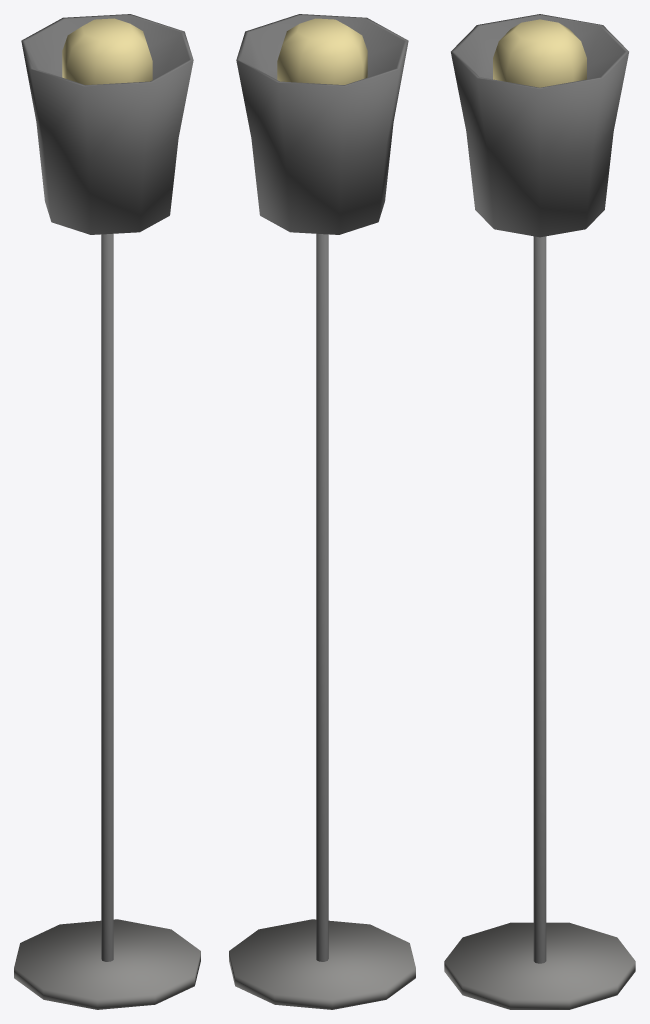
The model's file is Light_Floor1.glb.
3 renders of one model, left to right at view 1: azimuth 30°, elevation 25°; view 2: azimuth 150°, elevation 25°; view 3: azimuth 270°, elevation 25°, orthographic.
Visible parts, largest first — view 1: Light_Floor1; view 2: Light_Floor1; view 3: Light_Floor1.
Part boxes in pixels (x1,y1,x2,y2): Light_Floor1: (14,14,200,1009); Light_Floor1: (229,14,415,1009); Light_Floor1: (444,14,635,1009).
Size of the model in its own units: 0.2809 by 1.6 by 0.2953.
